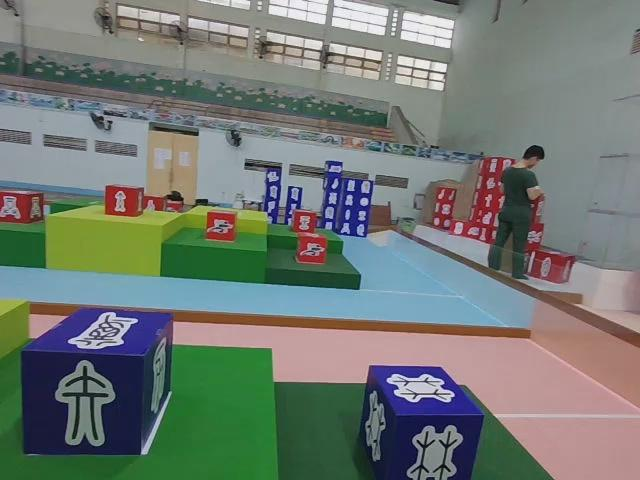R2 Fake Blue: (25, 305, 176, 460)
R2 Real Blue: (358, 366, 484, 480)
